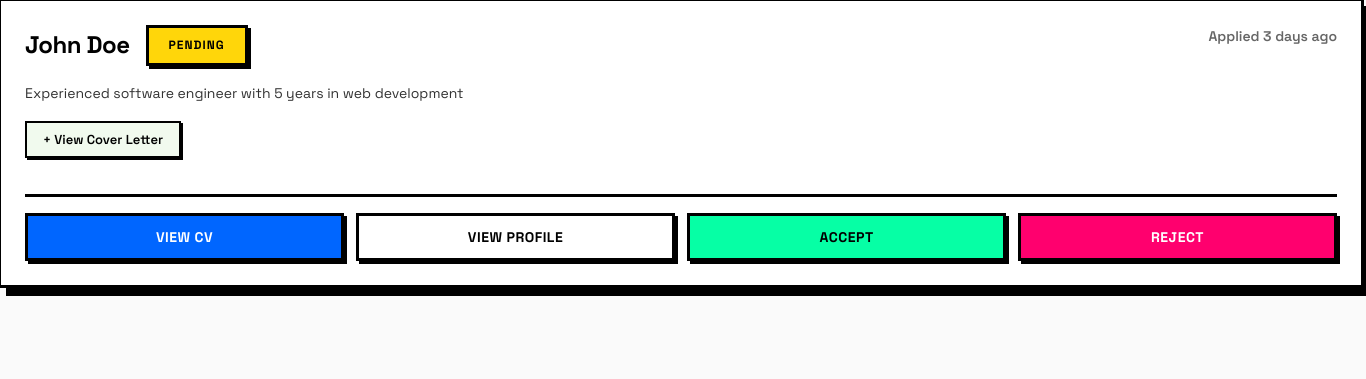
Test: CompanyApplicationCard › should show cover letter when toggle button is clicked
The image size is (1366, 379).
Check: the text "I am very interested" is not shown
Click toggle button
Step 1. Click the button "+ View Cover Letter" → (103, 139), box [25,121,181,158]
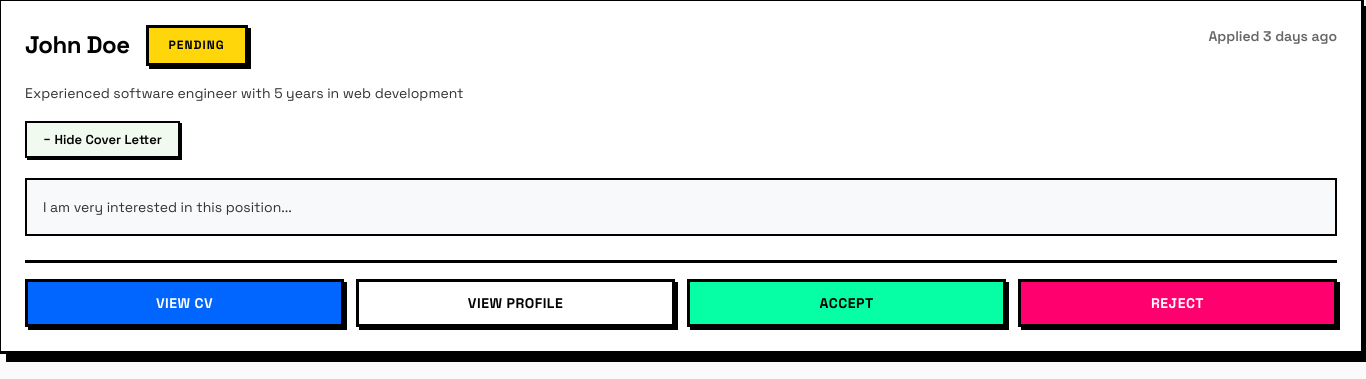
Check: the text "I am very interested in this position..." is shown, box [43,198,292,216]
Check: the button "− Hide Cover Letter" is shown, box [25,121,180,158]
